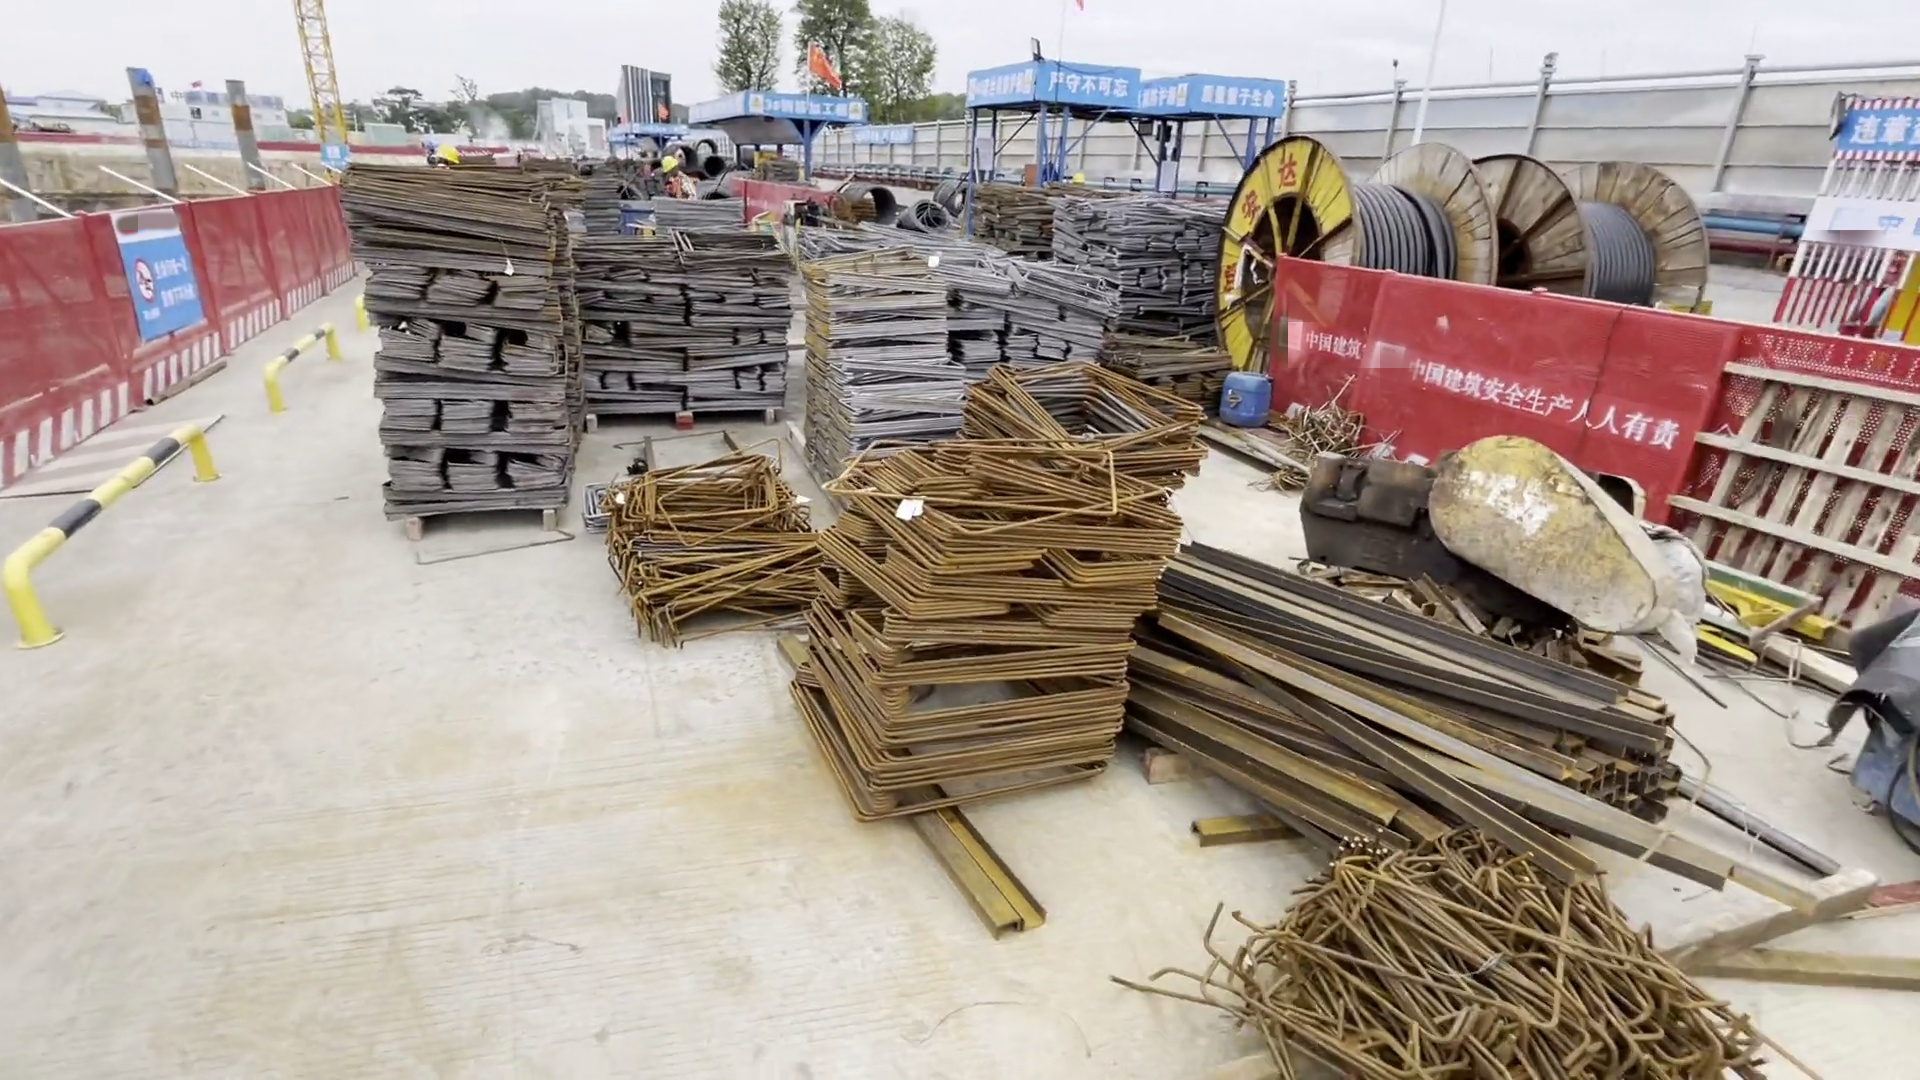fence: (1258, 256, 1705, 528), (201, 180, 360, 350), (1, 214, 108, 461)
helmet: (661, 156, 682, 179), (433, 146, 458, 166)
person: (657, 159, 694, 201)
slogan: (1041, 72, 1136, 100), (1197, 81, 1277, 108)
